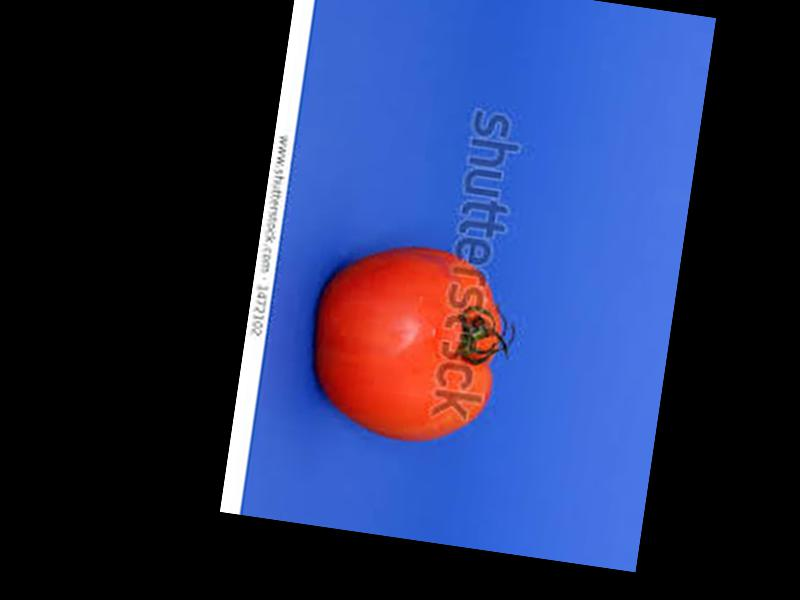Tomato: (303, 237, 513, 455)
